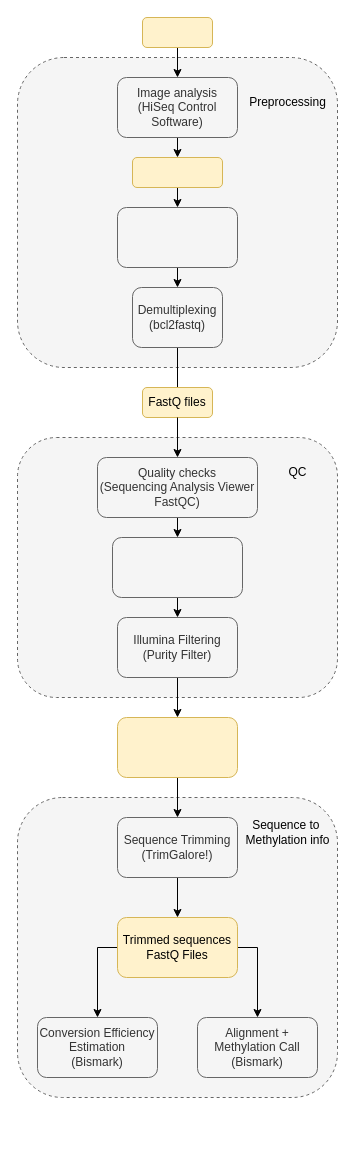
Image size: 360x1153. Some labels were removed from this diagram. The centre of each missing label's shape, as x and y in pixels:
Base calling (Real-Time Analysis software): the point at 177,237
Contaminant screening (FastQ Screen): the point at 177,567
FastQ Files passing Illumina Filters (PF): the point at 177,747
Images: the point at 177,32
Intensity files: the point at 177,172
